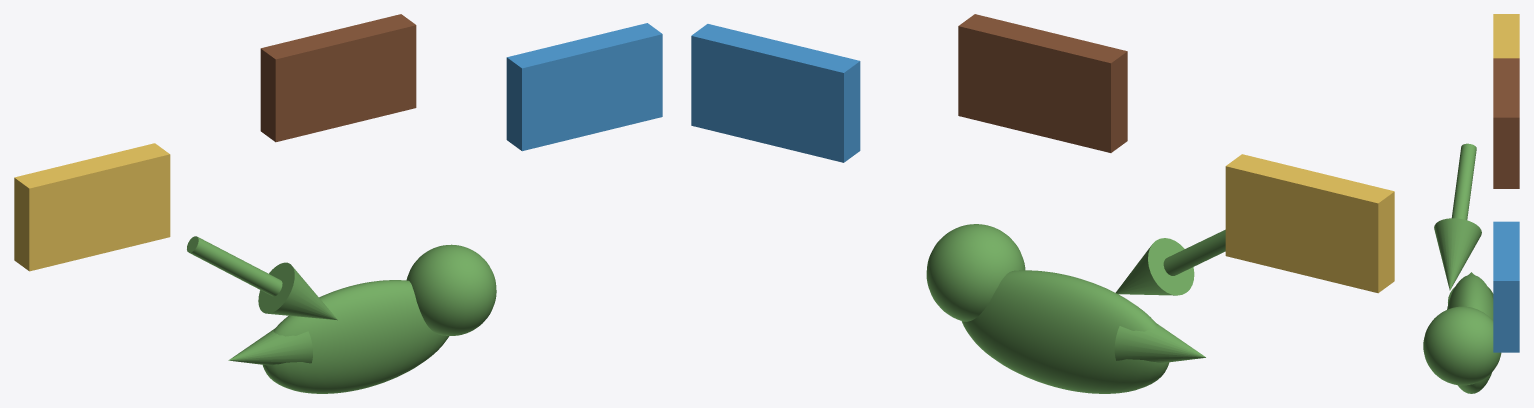
The model's file is bio-p1-niche.glb.
3 renders of one model, left to right at view 1: azimuth 30°, elevation 25°; view 2: azimuth 150°, elevation 25°; view 3: azimuth 270°, elevation 25°, orthographic. The views are drawn at different scales.
Parts seen in each view (by area): view 1: food-role-tile, timing-role-tile, shelter-role-tile, niche-role-organism-body, niche-role-organism-head, role-fit-arrows-head, niche-role-organism-tail, role-fit-arrows-shaft; view 2: food-role-tile, timing-role-tile, shelter-role-tile, niche-role-organism-body, niche-role-organism-head, role-fit-arrows-head, niche-role-organism-tail, role-fit-arrows-shaft; view 3: niche-role-organism-head, timing-role-tile, shelter-role-tile, role-fit-arrows-head, niche-role-organism-body, role-fit-arrows-shaft, food-role-tile.
Boxes of the visible parts, x1,y1,x2,y2 form: food-role-tile: (14, 143, 170, 271); timing-role-tile: (506, 23, 662, 151); shelter-role-tile: (260, 14, 416, 142); niche-role-organism-body: (262, 280, 449, 393); niche-role-organism-head: (406, 244, 496, 335); role-fit-arrows-head: (258, 262, 337, 320); niche-role-organism-tail: (228, 329, 312, 365); role-fit-arrows-shaft: (187, 236, 282, 296); food-role-tile: (1225, 154, 1394, 293); timing-role-tile: (691, 24, 860, 162); shelter-role-tile: (958, 14, 1127, 152); niche-role-organism-body: (961, 270, 1169, 393); niche-role-organism-head: (926, 224, 1025, 321); role-fit-arrows-head: (1115, 238, 1194, 295); niche-role-organism-tail: (1114, 323, 1205, 362); role-fit-arrows-shaft: (1163, 229, 1225, 275); niche-role-organism-head: (1423, 306, 1501, 385); timing-role-tile: (1493, 221, 1519, 352); shelter-role-tile: (1493, 58, 1519, 188); role-fit-arrows-head: (1434, 218, 1481, 290); niche-role-organism-body: (1447, 274, 1493, 393); role-fit-arrows-shaft: (1451, 143, 1476, 220); food-role-tile: (1493, 14, 1519, 58).
Size of what is drawn, in the model's own units: 1.44 by 0.7302 by 0.22.
